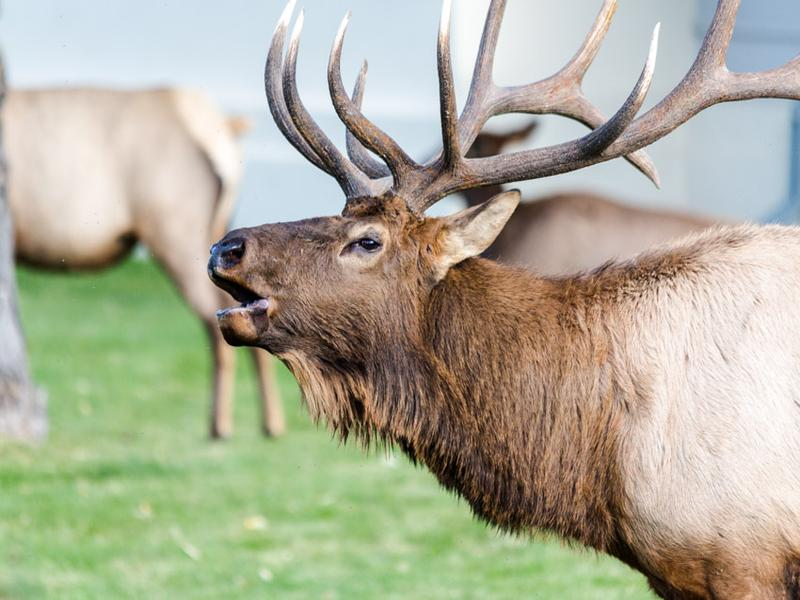elk: (205, 23, 800, 600)
